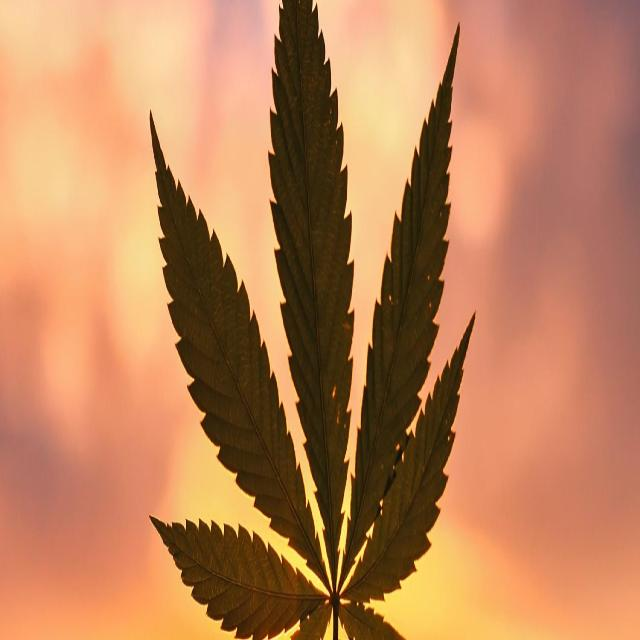cannabis: (150, 0, 472, 639)
